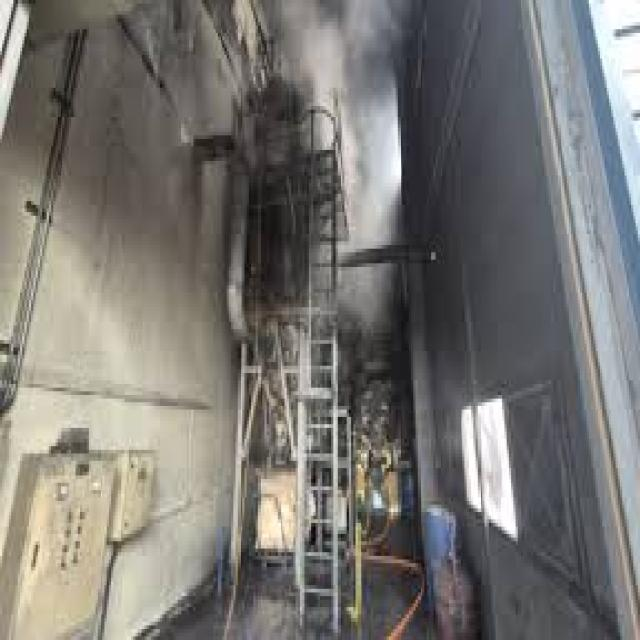explosion: (235, 0, 464, 367)
